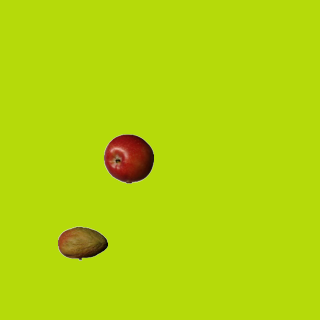Apple Braeburn: (103, 133, 153, 183)
Papaya: (57, 218, 107, 268)
